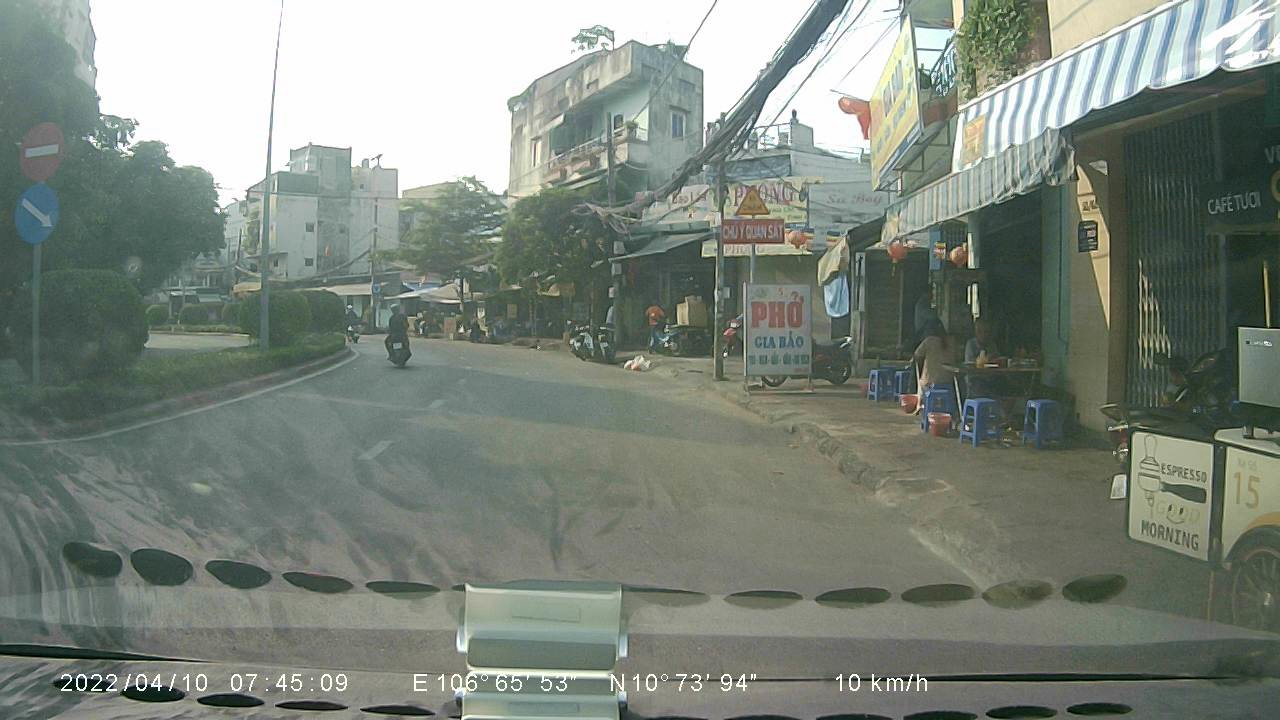Bien khac: (732, 179, 773, 216)
Cam di nguoc chieu: (16, 120, 70, 180)
Huong di phai re phai: (12, 183, 60, 243)
